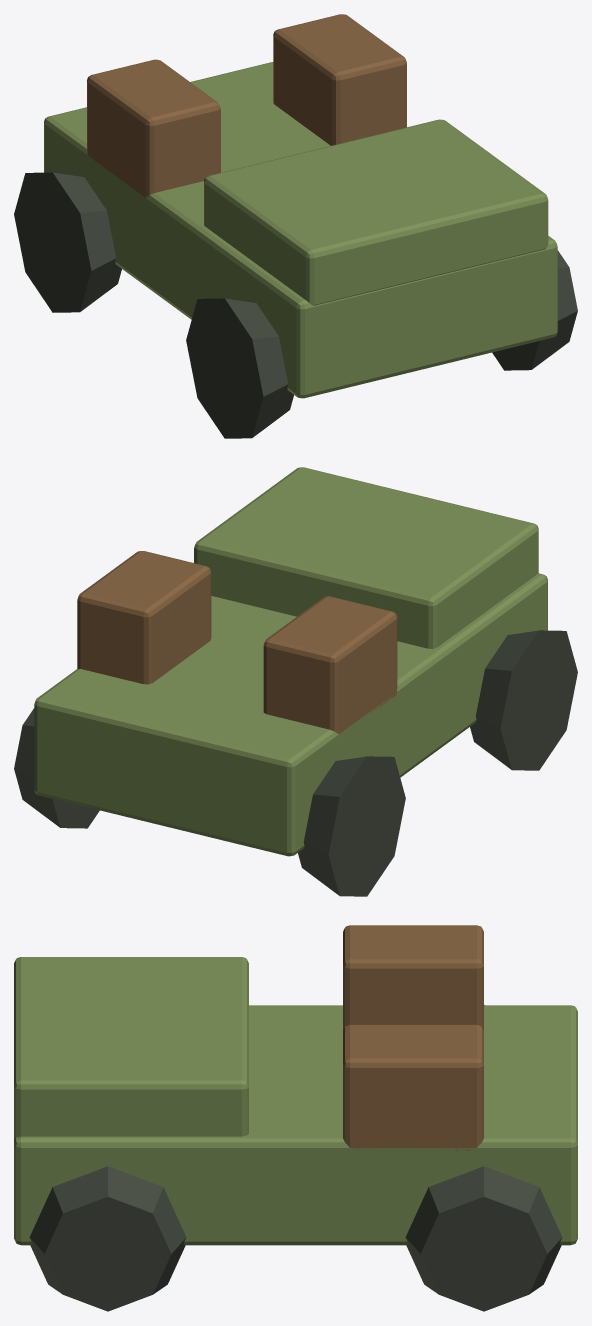
File: jeep.glb
3 views of the same model, one above another, from view 1: azimuth 30°, elevation 25°; view 2: azimuth 150°, elevation 25°; view 3: azimuth 270°, elevation 25° (orthographic). The views are drawn at different scales.
Parts seen in each view (by area): view 1: Jeep body, Bonnet, Seat, Seat.001, Wheel, Wheel.001, Wheel.002; view 2: Jeep body, Bonnet, Seat, Seat.001, Wheel, Wheel.001, Wheel.003; view 3: Jeep body, Bonnet, Seat.001, Wheel.002, Wheel.003, Seat.
Part boxes in pixels (x1,y1,x2,y2): Jeep body: [44, 62, 557, 398]; Bonnet: [204, 119, 548, 305]; Seat: [87, 59, 220, 197]; Seat.001: [273, 14, 406, 145]; Wheel: [186, 298, 293, 438]; Wheel.001: [14, 172, 121, 312]; Wheel.002: [492, 250, 577, 370]; Jeep body: [34, 573, 547, 856]; Bonnet: [194, 467, 538, 648]; Seat: [263, 596, 397, 734]; Seat.001: [77, 551, 211, 684]; Wheel: [470, 630, 577, 770]; Wheel.001: [298, 756, 405, 896]; Wheel.003: [14, 708, 99, 828]; Jeep body: [14, 1005, 577, 1245]; Bonnet: [14, 957, 248, 1138]; Seat.001: [343, 1024, 483, 1150]; Wheel.002: [29, 1166, 186, 1311]; Wheel.003: [405, 1166, 562, 1311]; Seat: [343, 925, 483, 1030].
Bounding box in the file's own units: 1.74 × 1.19 × 2.4.
